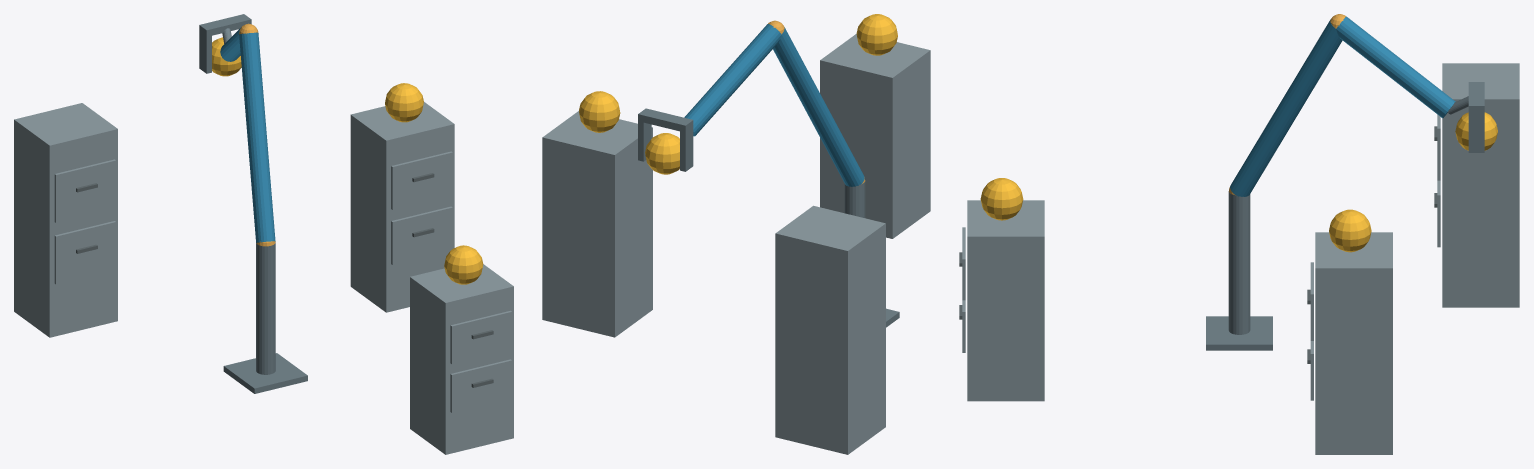
The picture shows the model from 3 angles, left to right: view 1: azimuth 30°, elevation 25°; view 2: azimuth 150°, elevation 25°; view 3: azimuth 270°, elevation 25°; orthographic projection. The views are drawn at different scales.
Visible parts, largest first — view 1: cabinet_3 body, cabinet_2 body, cabinet_1 body, moving link 1, cabinet_3 drawer front, cabinet_3 drawer front.001, cabinet_2 drawer front.001, cabinet_2 drawer front, fixed post, cabinet_1 drawer front, cabinet_1 drawer front.001, pedestal (+4 smaller); view 2: cabinet_3 body, cabinet_2 body, cabinet_1 body, moving link 1, moving link 2, released ball_1, released ball_2, ball ball_3, gripper bridge, fixed post, gripper finger -1, gripper finger 1; view 3: cabinet_3 body, cabinet_2 body, cabinet_1 body, moving link 1, fixed post, moving link 2, pedestal, released ball_1, released ball_2, ball ball_3, gripper finger 1.
Part boxes in pixels (x1,y1,x2,y2): cabinet_3 body: (14, 103, 117, 337); cabinet_2 body: (350, 102, 454, 312); cabinet_1 body: (410, 264, 513, 454); moving link 1: (239, 32, 275, 242); cabinet_3 drawer front: (54, 221, 116, 284); cabinet_3 drawer front.001: (54, 159, 116, 222); cabinet_2 drawer front.001: (391, 151, 452, 209); cabinet_2 drawer front: (391, 206, 452, 264); fixed post: (256, 243, 275, 374); cabinet_1 drawer front: (450, 359, 511, 412); cabinet_1 drawer front.001: (450, 310, 511, 364); pedestal: (223, 353, 307, 393); cabinet_3 body: (775, 205, 885, 454); cabinet_2 body: (542, 111, 652, 337); cabinet_1 body: (820, 34, 930, 238); moving link 1: (773, 27, 864, 186); moving link 2: (684, 24, 781, 136); released ball_1: (856, 14, 897, 55); released ball_2: (579, 91, 620, 132); ball ball_3: (645, 133, 679, 174); gripper bridge: (638, 108, 693, 132); fixed post: (844, 181, 865, 217); gripper finger -1: (680, 127, 693, 171); gripper finger 1: (638, 121, 651, 161); cabinet_3 body: (1442, 63, 1519, 307); cabinet_2 body: (1315, 232, 1392, 454); cabinet_1 body: (967, 200, 1044, 401); moving link 1: (1230, 19, 1342, 196); fixed post: (1228, 191, 1250, 334); moving link 2: (1336, 16, 1455, 118); pedestal: (1206, 316, 1272, 350); released ball_1: (980, 178, 1023, 220); released ball_2: (1329, 209, 1371, 252); ball ball_3: (1455, 112, 1497, 150); gripper finger 1: (1468, 113, 1484, 152).
Size of the model in its own units: 1.62 by 1.39 by 2.1.
